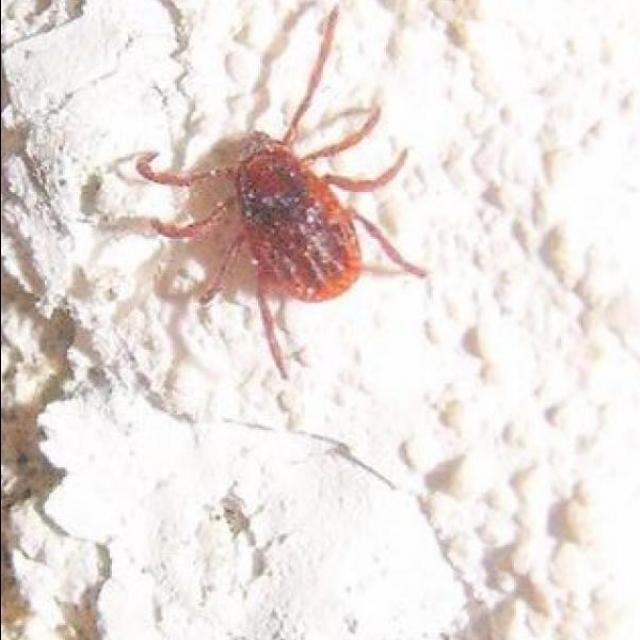Rhipicephalus Sanguineus-F: (117, 7, 424, 381)
